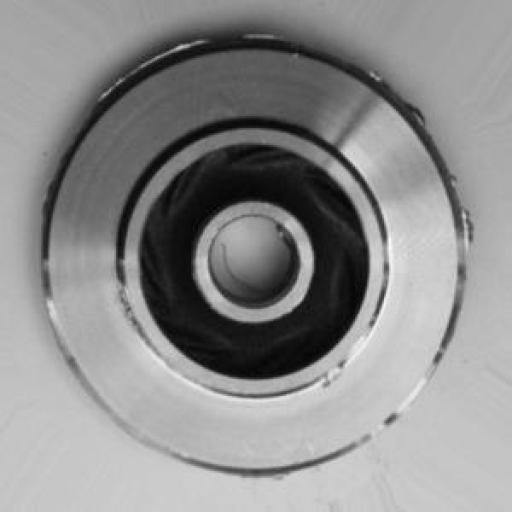defect: (28, 26, 492, 486)
